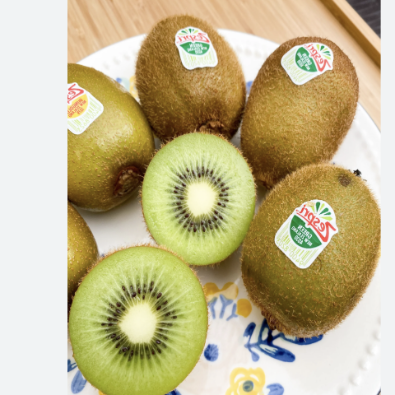kiwi: (224, 150, 388, 336), (243, 20, 358, 197), (124, 10, 253, 150)
